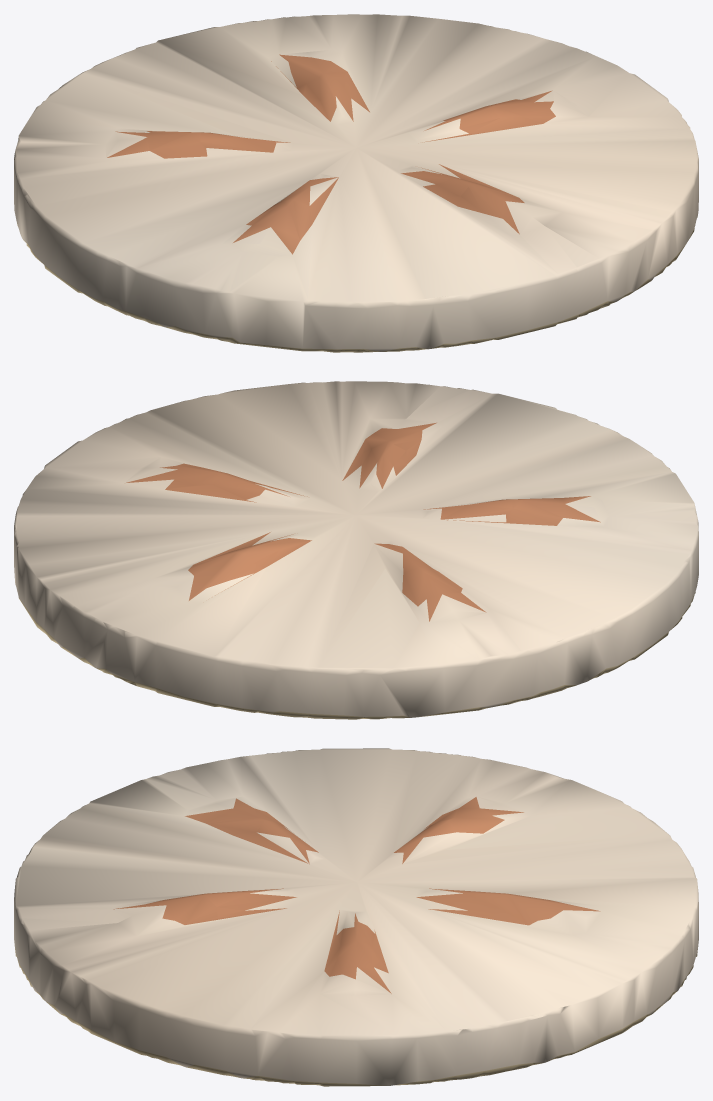
File: shore_sand_dollar_lod1.glb
The picture shows the model from 3 angles, top to bottom: view 1: azimuth 30°, elevation 25°; view 2: azimuth 150°, elevation 25°; view 3: azimuth 270°, elevation 25°; orthographic projection.
Visible parts, largest first — view 1: shore_sand_dollar.001; view 2: shore_sand_dollar.001; view 3: shore_sand_dollar.001.
Part boxes in pixels (bbox=[...]): shore_sand_dollar.001: bbox=[14, 14, 698, 352]; shore_sand_dollar.001: bbox=[14, 381, 698, 719]; shore_sand_dollar.001: bbox=[14, 748, 698, 1086].
Bounding box in the file's own units: 7.39 × 0.8209 × 7.39.
